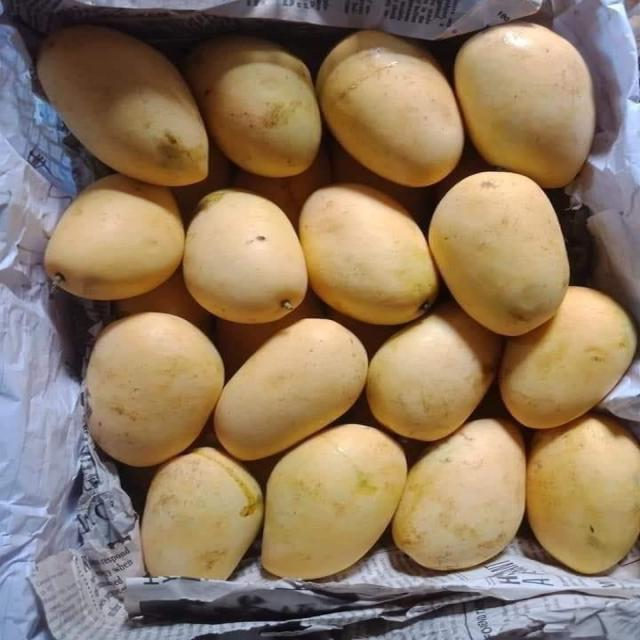mango: (37, 25, 209, 185), (454, 22, 595, 187), (428, 171, 569, 335), (316, 30, 463, 187), (261, 423, 406, 579), (214, 318, 368, 460), (85, 312, 224, 467), (392, 418, 524, 571), (298, 183, 438, 325), (184, 35, 321, 177), (500, 286, 636, 429), (367, 302, 501, 441), (526, 414, 639, 573), (44, 173, 184, 300), (183, 189, 307, 323), (141, 447, 262, 579)
